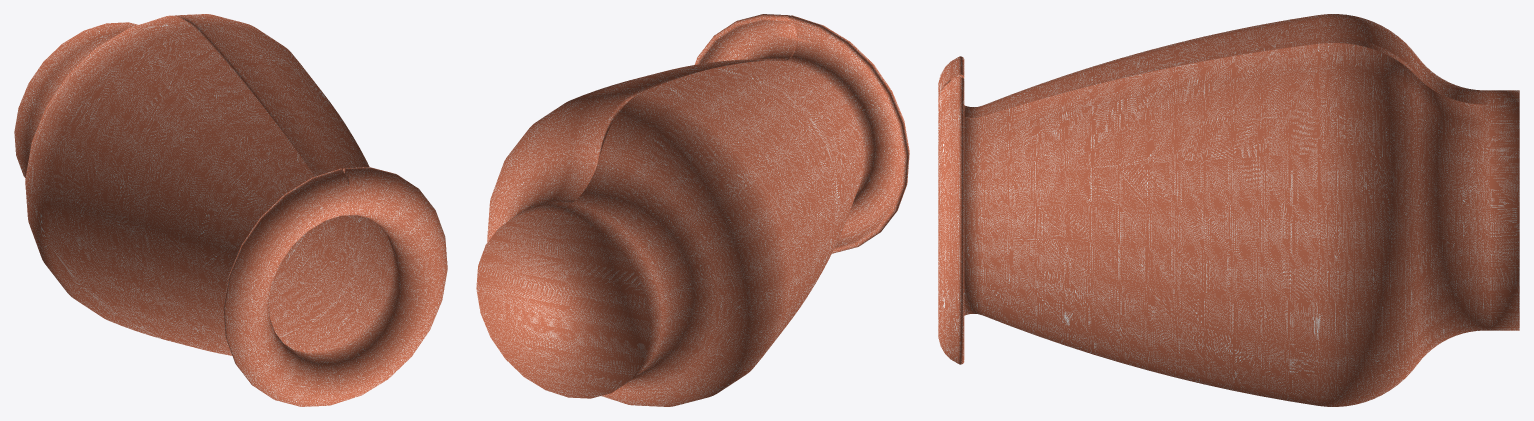
File: model_align.obj
The picture shows the model from 3 angles, left to right: view 1: azimuth 30°, elevation 25°; view 2: azimuth 150°, elevation 25°; view 3: azimuth 270°, elevation 25°; orthographic projection. The views are drawn at different scales.
Visible parts, largest first — view 1: mesh1_mesh1-geometry; view 2: mesh1_mesh1-geometry; view 3: mesh1_mesh1-geometry.
Part boxes in pixels (x1,y1,x2,y2): mesh1_mesh1-geometry: (14,14,447,406); mesh1_mesh1-geometry: (476,14,909,406); mesh1_mesh1-geometry: (938,14,1519,406).
Size of the model in its own units: 0.1364 by 0.1364 by 0.2019.
